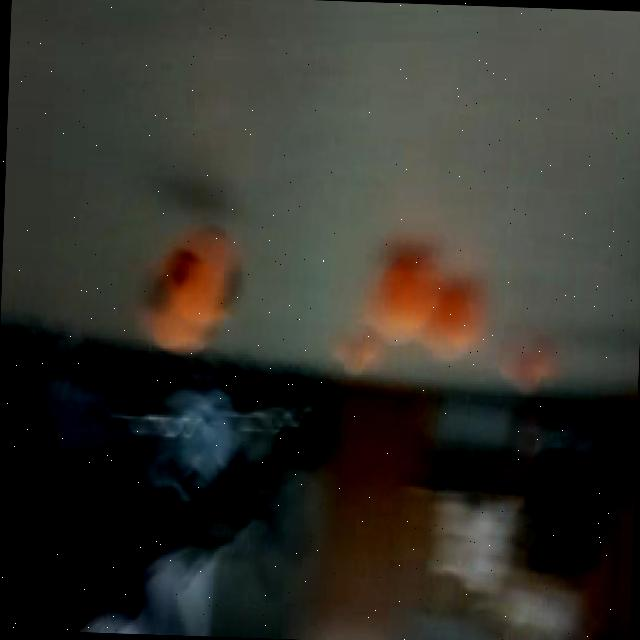ping-pong-ball: (146, 218, 248, 349), (372, 251, 441, 347), (428, 288, 492, 366)
